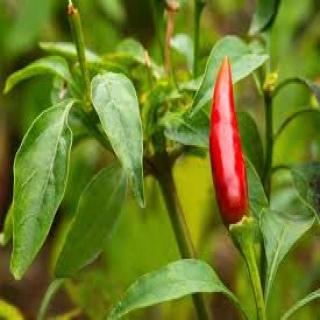Cabai Merah: (209, 56, 250, 228)
